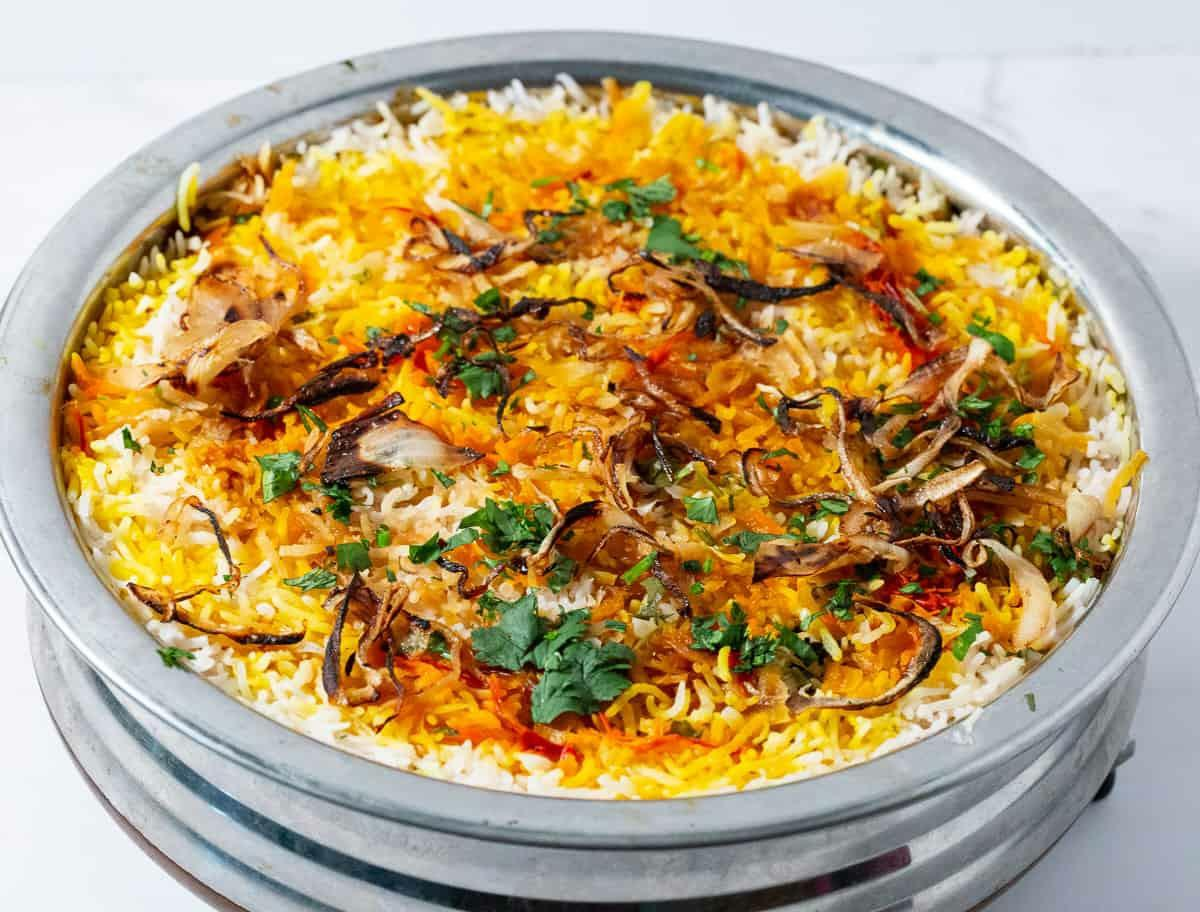Biryani: (63, 70, 1142, 802)
